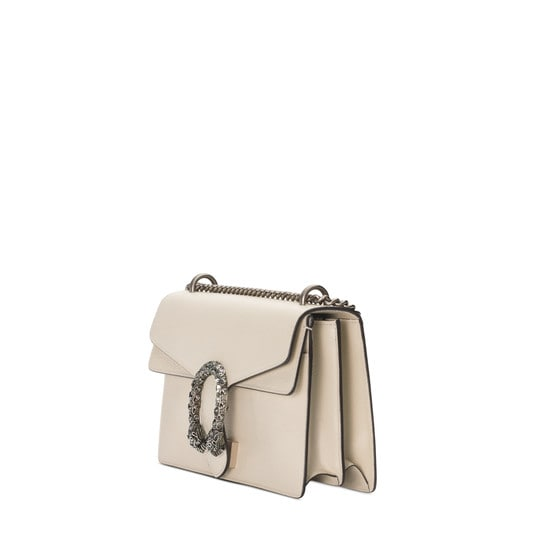Gucci: (131, 257, 386, 498), (173, 341, 254, 473)
